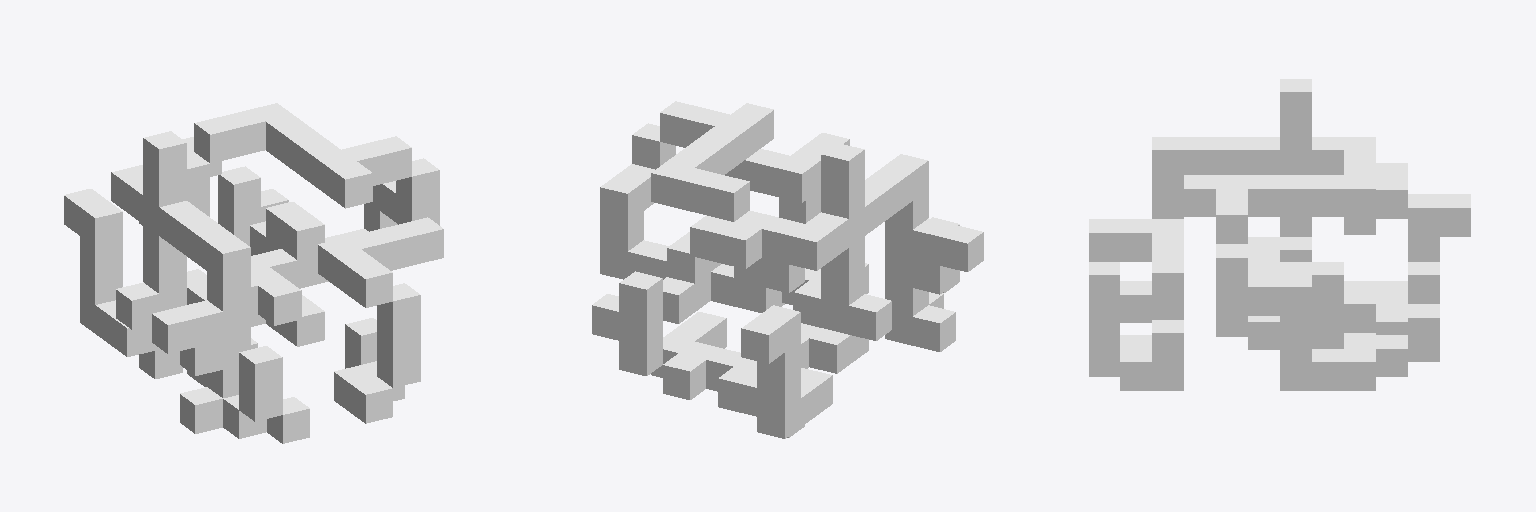
File: Gatetower-0.obj
3 views of the same model, side by side, from view 1: azimuth 30°, elevation 25°; view 2: azimuth 150°, elevation 25°; view 3: azimuth 270°, elevation 25° (orthographic).
Parts seen in each view (by area): view 1: object 1; view 2: object 1; view 3: object 1.
Part boxes in pixels (x1,y1,x2,y2): object 1: (64, 103, 443, 443); object 1: (592, 101, 983, 438); object 1: (1089, 79, 1470, 390).
Bounding box in the file's own units: 4.4 × 3.6 × 4.8.